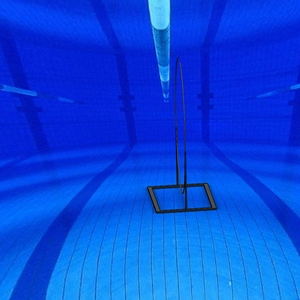circle: (147, 55, 220, 214)
